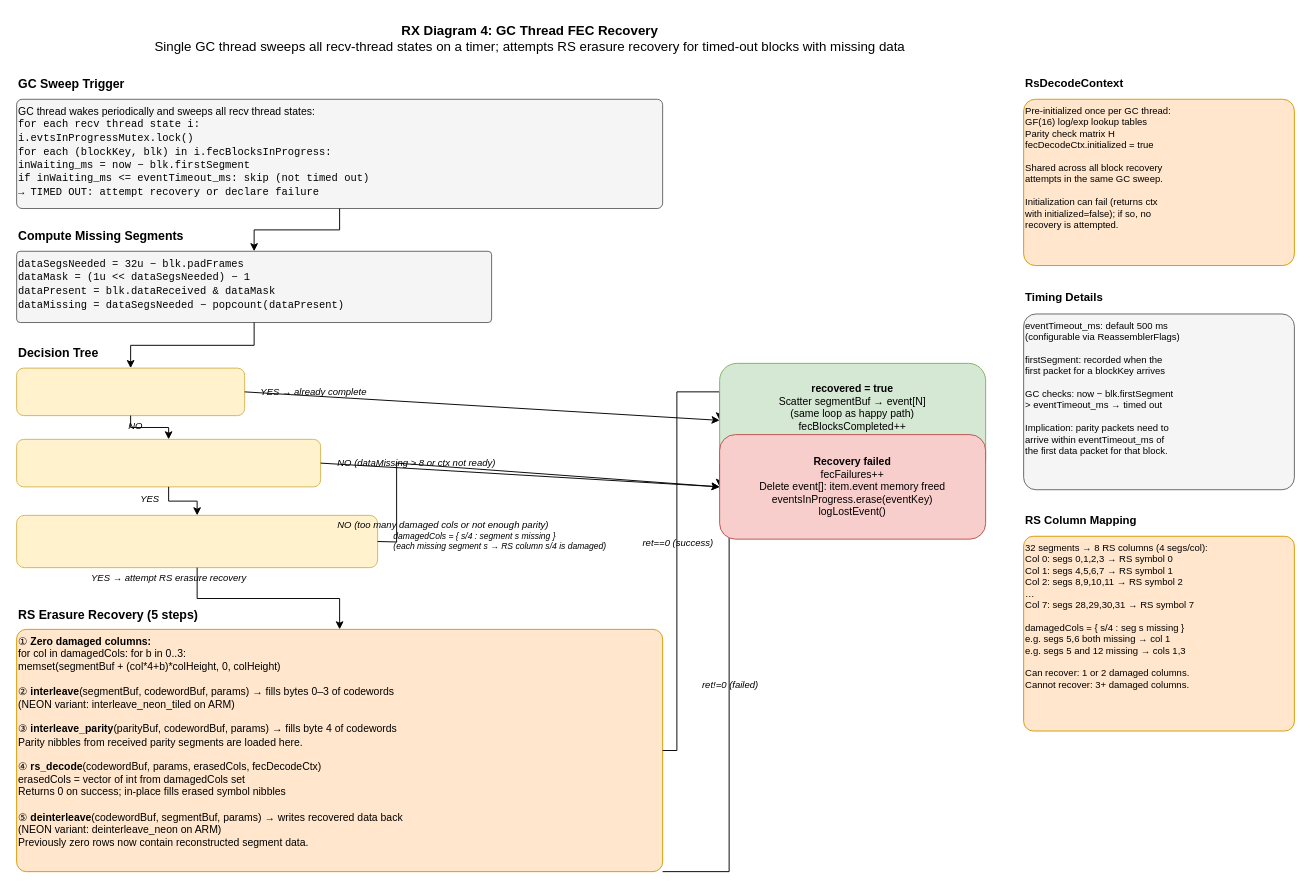
The diagram is 1311 pixels wide and 896 high, and some of its shapes have lost their labels. Each missing label, with the centre of its shape:
"0 < dataMissing ≤ 8 AND fecDecodeCtx.initialized?" goes at [168,462].
"damagedCols.size() ≤ 2 AND popcount(parityReceived) ≥ |damagedCols|?" goes at [197,541].
"dataMissing == 0?" goes at [130,391].
